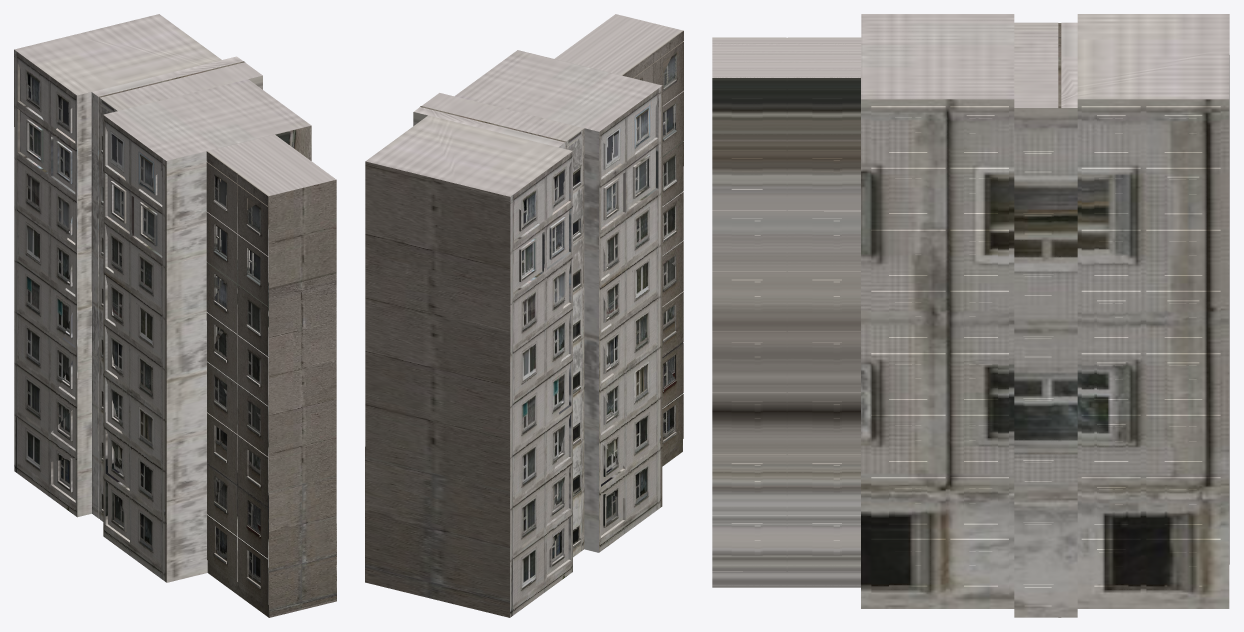
File: Panelka.fbx
3 renders of one model, left to right at view 1: azimuth 30°, elevation 25°; view 2: azimuth 150°, elevation 25°; view 3: azimuth 270°, elevation 25°, orthographic. The views are drawn at different scales.
Parts seen in each view (by area): view 1: Plane; view 2: Plane; view 3: Plane.
Part boxes in pixels (<box>): Plane: <box>14,14,336,617</box>; Plane: <box>365,14,683,617</box>; Plane: <box>712,14,1229,617</box>.
Bounding box in the file's own units: 608 × 1517 × 1395.
